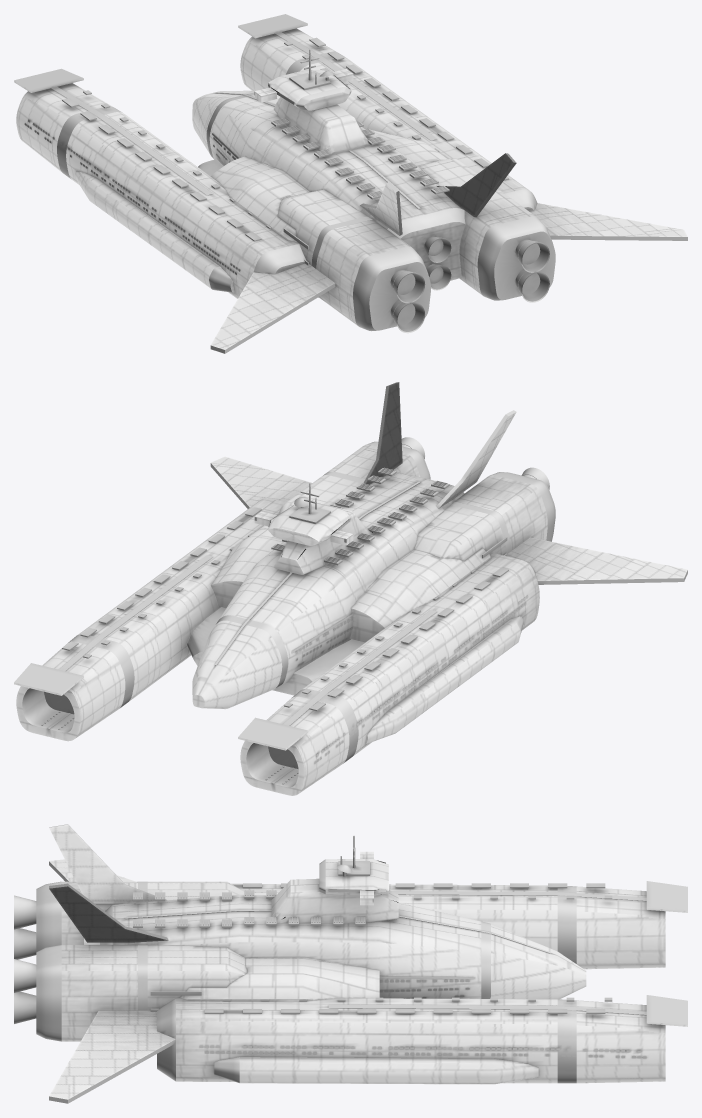
The model's file is ship-heron.glb.
The picture shows the model from 3 angles, top to bottom: view 1: azimuth 30°, elevation 25°; view 2: azimuth 150°, elevation 25°; view 3: azimuth 270°, elevation 25°; orthographic projection. The views are drawn at different scales.
Parts seen in each view (by area): view 1: Hull; view 2: Hull; view 3: Hull.
Part boxes in pixels (x1,y1,x2,y2): Hull: (14,14,687,353); Hull: (14,382,687,795); Hull: (14,824,687,1103).
Size of the model in its own units: 0.896 by 0.312 by 1.06.
Materials: 9 (1 with a texture image).
